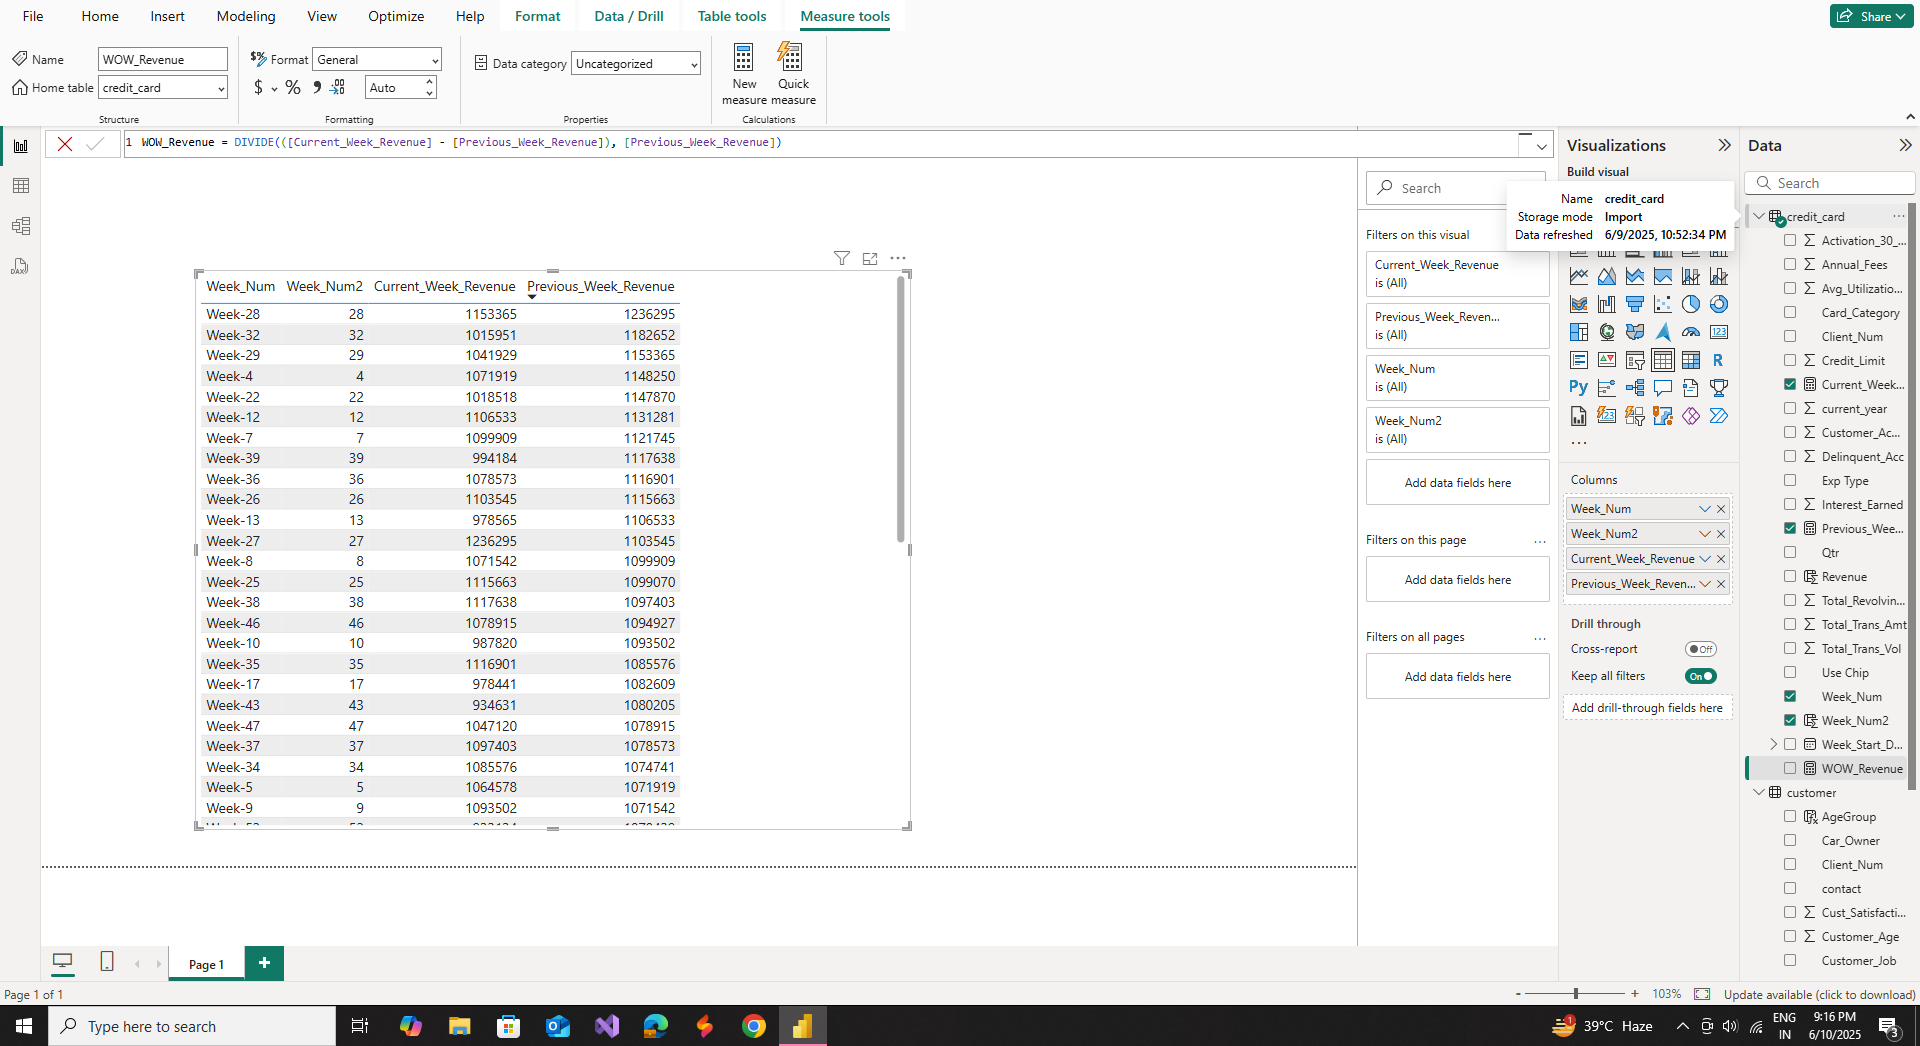

The dashboard page shown, as its layout file describes it:
{"tool":"powerbi","page":{"name":"Page 1","canvas":[1280,720],"ordinal":0},"visuals":[{"type":"tableEx","fields":{"Values":["credit_card.Week_Num2","credit_card.Previous_Week_Revenue","credit_card.Current_Week_Revenue","credit_card.WOW_Revenue"]},"box":[279.1,191.6,631.2,516.5],"z":1}]}

Visuals, with their boxes on the page's 1280x720 design canvas (x1, y1, x2, y2). These are canvas units, not pixel positions in the 1920x1046 screenshot, which may show the page scaled, cropped or inside an application window:
tableEx - credit_card.Week_Num2 x credit_card.Previous_Week_Revenue: 279,192,910,708
